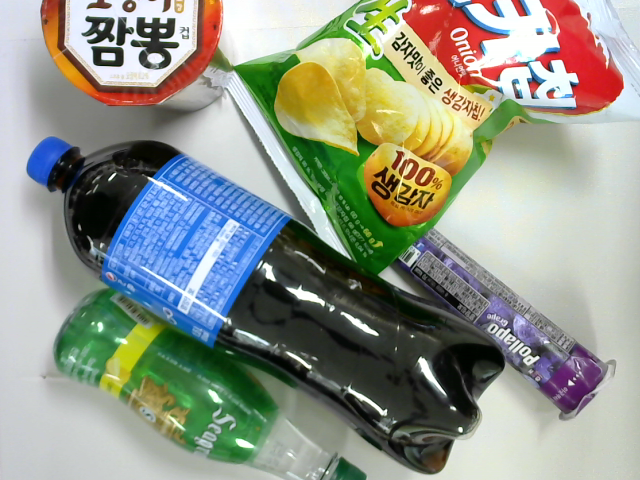Ojjam: (33, 1, 236, 116)
Pepsi_Cola_1.5L: (25, 134, 507, 477)
Pocachip_Onion: (217, 1, 640, 277)
Polapo_Grape: (392, 228, 620, 423)
Seagram_Lemon_Carbonated_Water: (51, 289, 368, 480)
